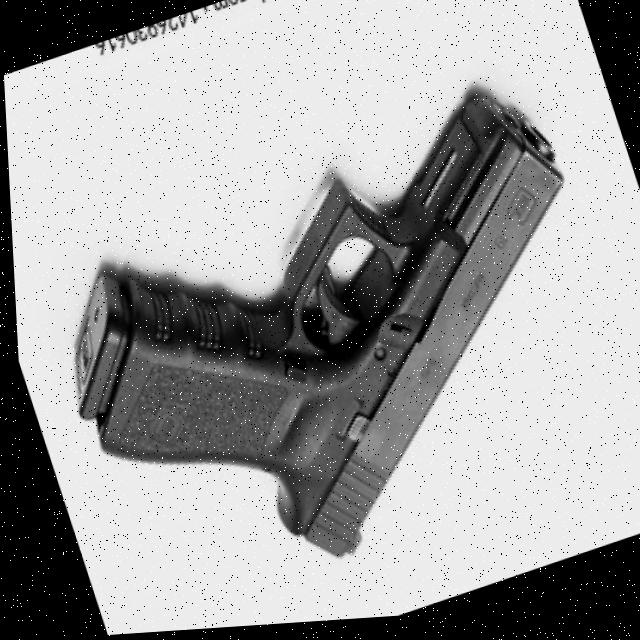pistol: (11, 68, 640, 638)
